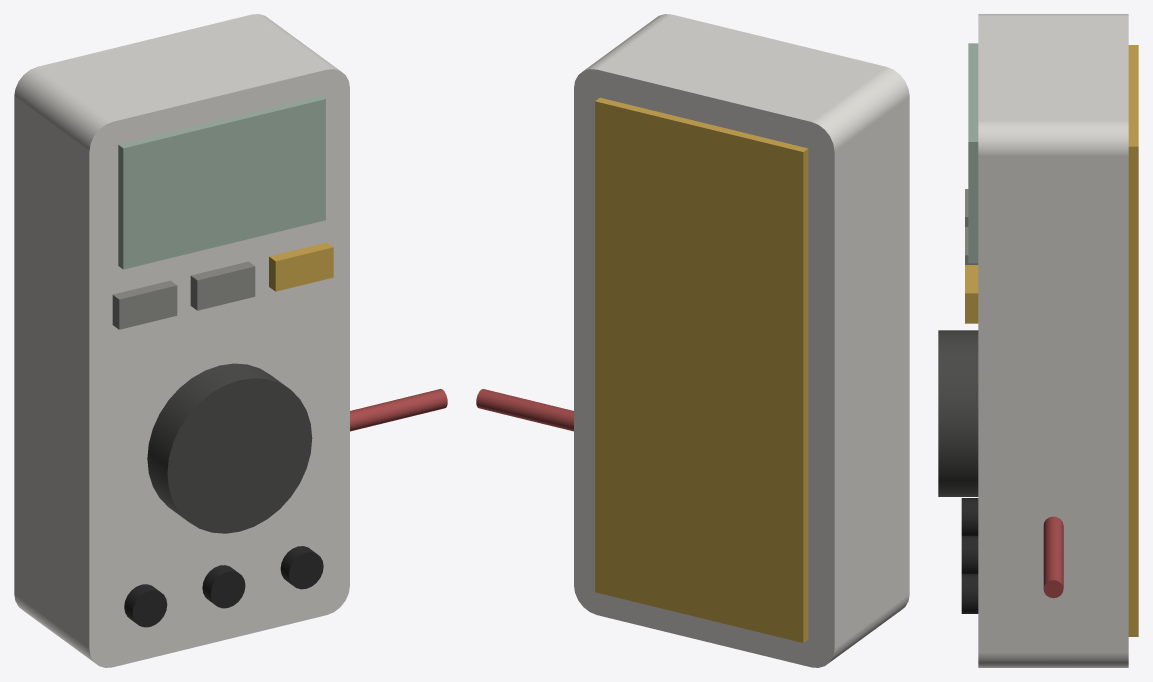
File: digital_multimeter.glb
3 renders of one model, left to right at view 1: azimuth 30°, elevation 25°; view 2: azimuth 150°, elevation 25°; view 3: azimuth 270°, elevation 25°, orthographic.
Parts seen in each view (by area): view 1: body, lcd_display, rotary_selector, hold_button, range_button, select_button, test_probes, ten_amp_jack, vohm_ma_jack, com_jack; view 2: rubber_holster, body, test_probes; view 3: body, rotary_selector, rubber_holster, lcd_display, test_probes, select_button, com_jack, ten_amp_jack, vohm_ma_jack.
Boxes of the visible parts, x1,y1,x2,y2 form: body: [14, 14, 349, 667]; lcd_display: [118, 95, 325, 269]; rotary_selector: [147, 363, 312, 533]; hold_button: [112, 280, 177, 329]; range_button: [190, 261, 255, 310]; select_button: [269, 242, 333, 291]; test_probes: [350, 389, 447, 431]; ten_amp_jack: [124, 584, 167, 627]; vohm_ma_jack: [202, 565, 245, 608]; com_jack: [280, 546, 323, 589]; rubber_holster: [595, 97, 808, 642]; body: [574, 14, 909, 667]; test_probes: [476, 389, 573, 431]; body: [978, 14, 1128, 667]; rotary_selector: [938, 330, 978, 496]; rubber_holster: [1128, 45, 1138, 636]; lcd_display: [968, 43, 978, 263]; test_probes: [1043, 516, 1063, 598]; select_button: [965, 265, 978, 323]; com_jack: [961, 574, 978, 613]; ten_amp_jack: [961, 498, 978, 535]; vohm_ma_jack: [961, 536, 978, 573].
Size of the model in its own units: 0.135 by 0.18 by 0.06.
